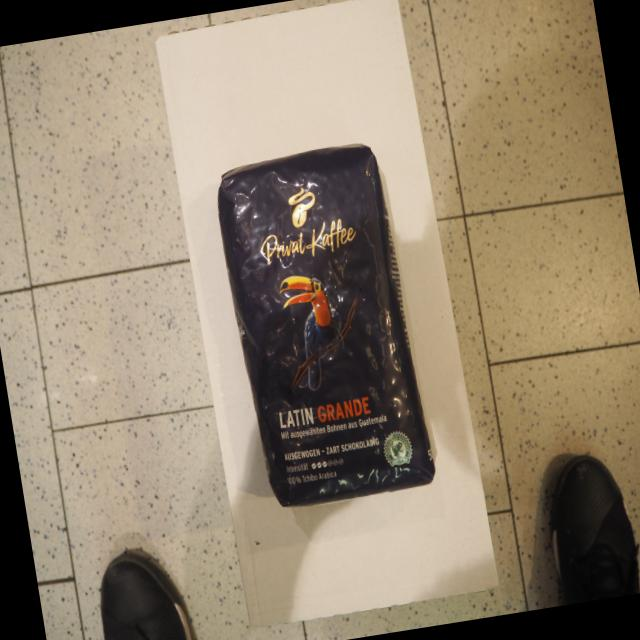LG Bohne: (206, 134, 438, 514)
